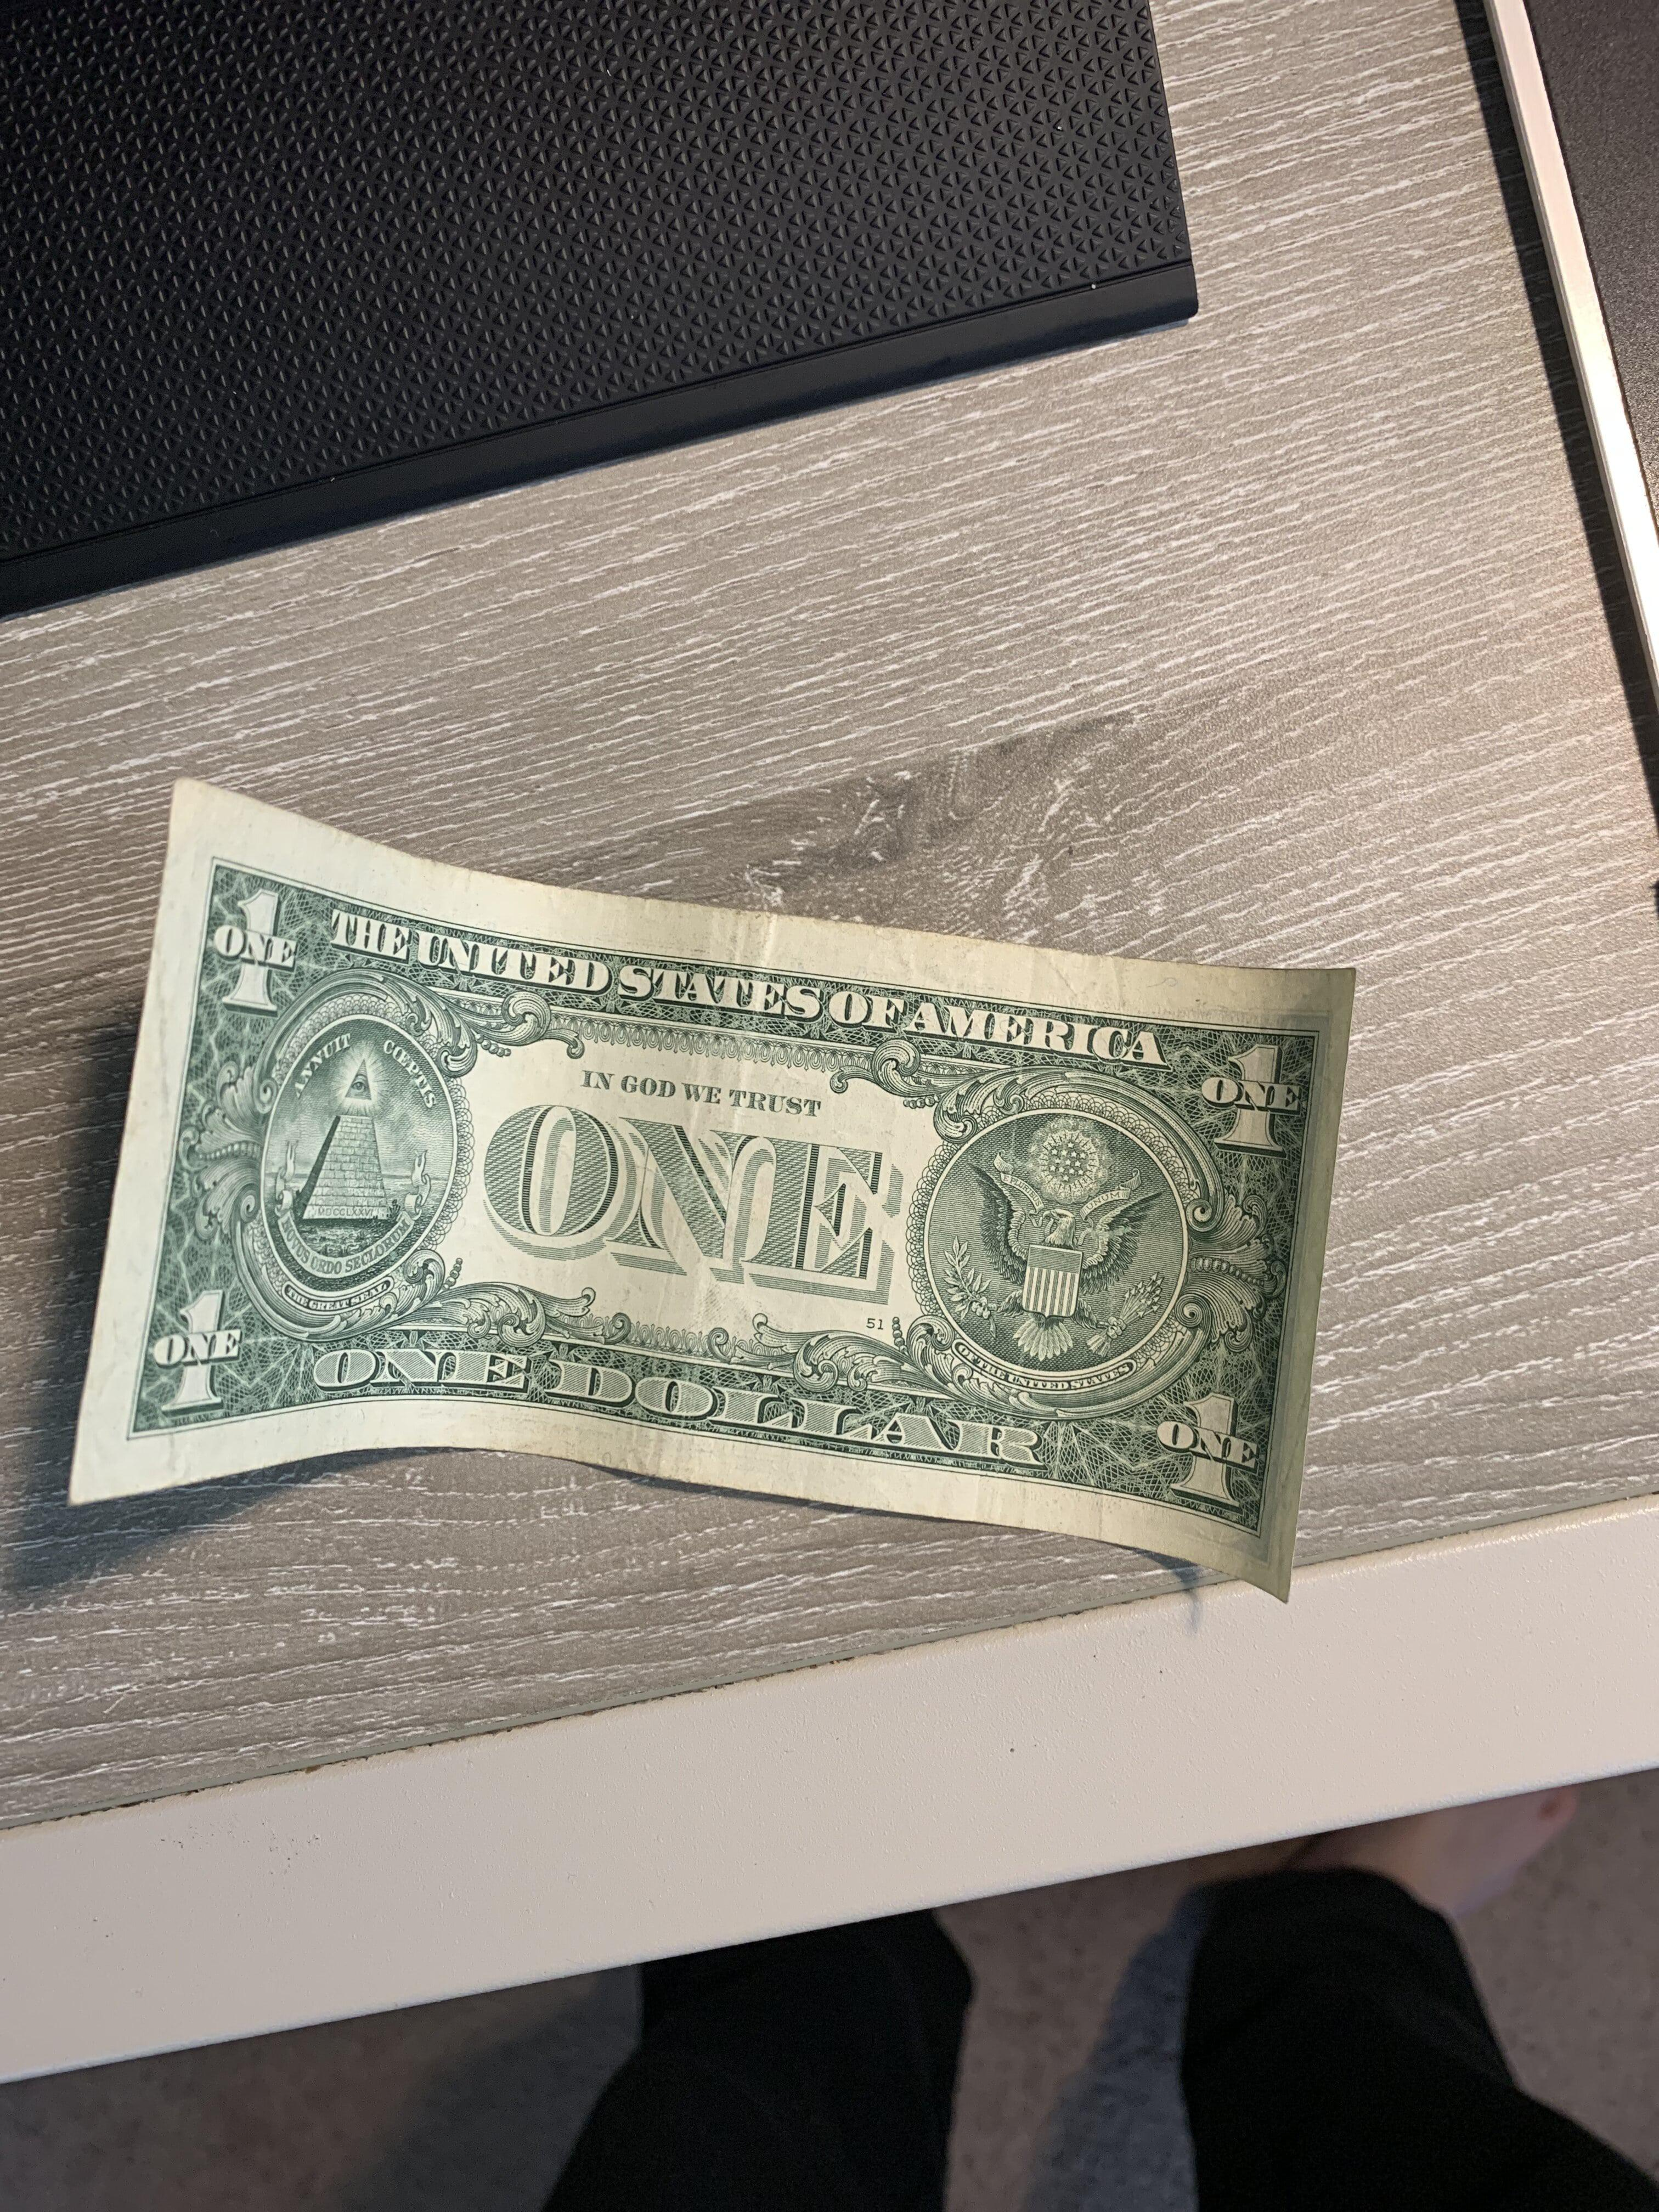OneBill: (45, 723, 1406, 1635)
